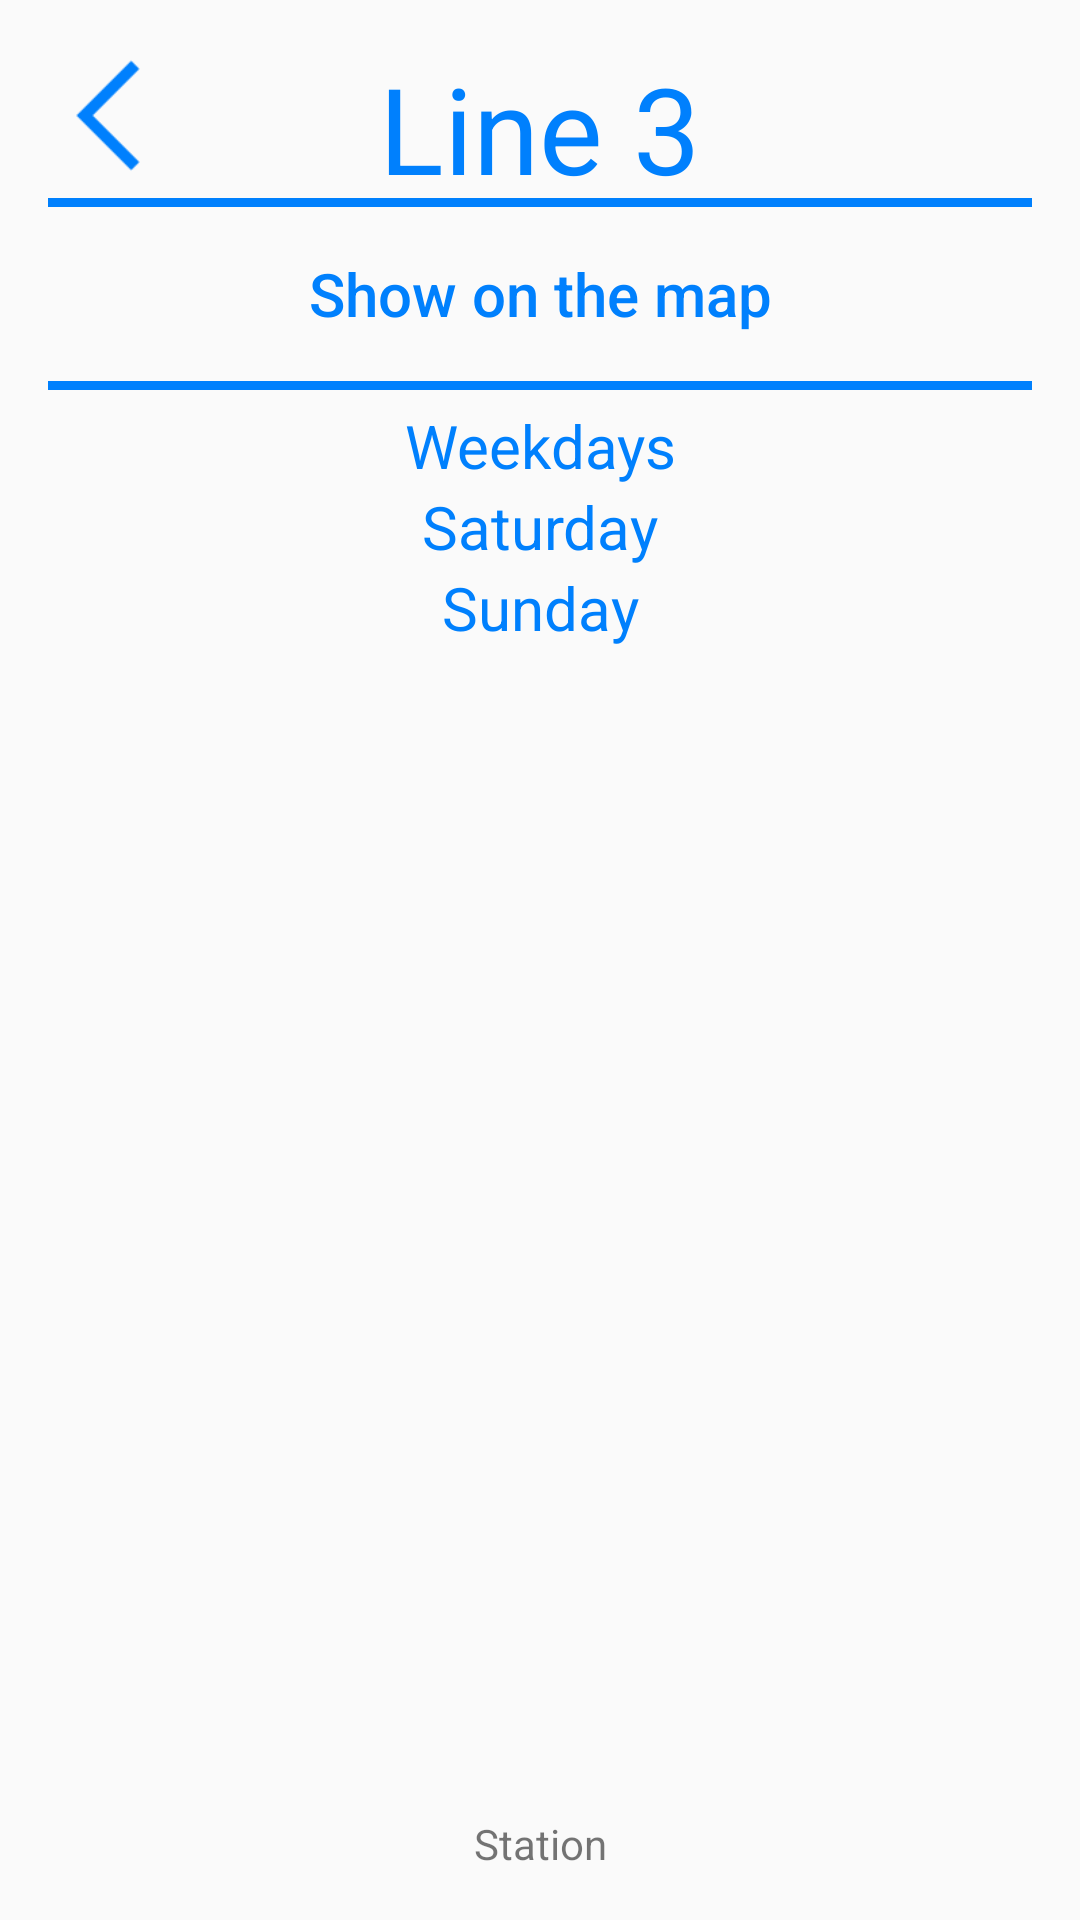

Where to tap for icons on this 1080*1920 app screen, as [x,y]:
back: [108,115]
